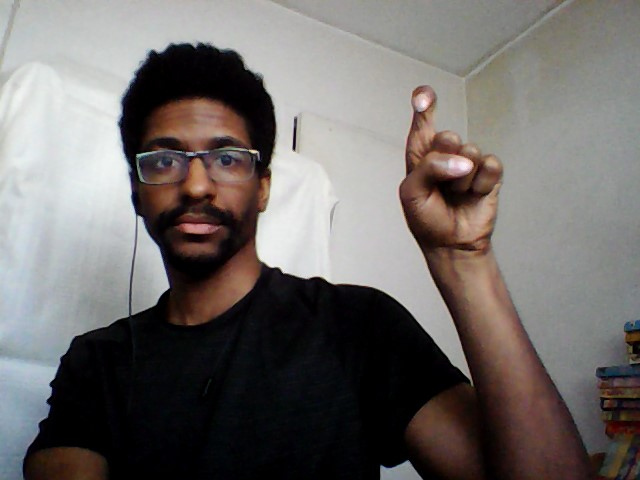x: (396, 80, 508, 264)
